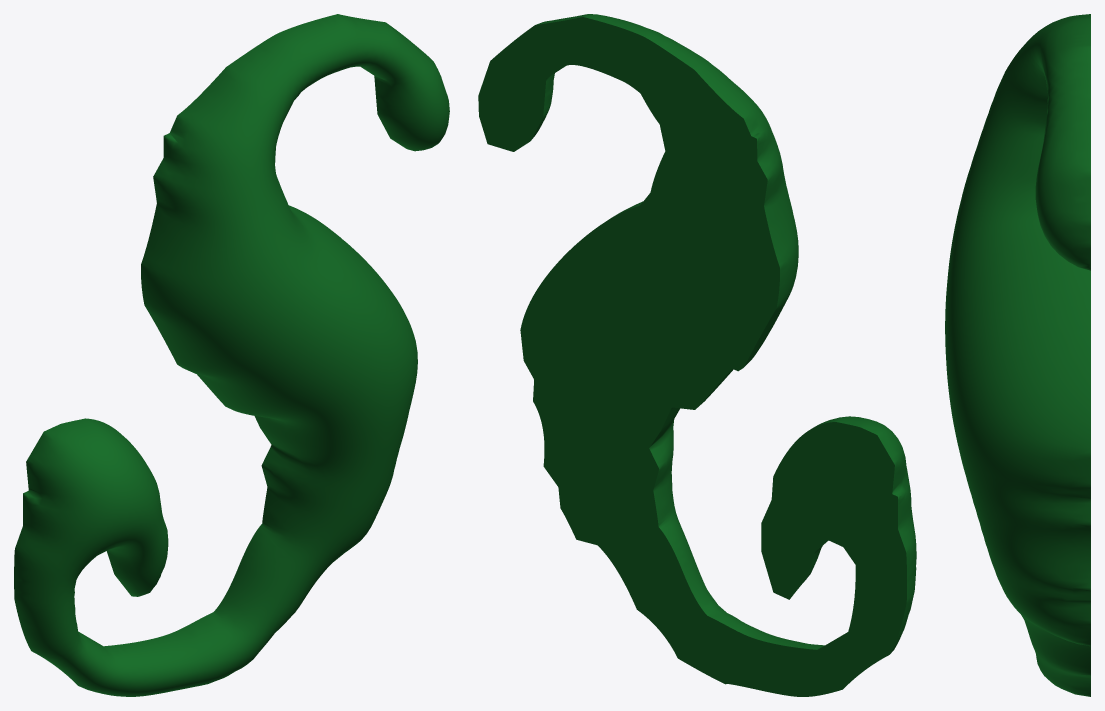
3 views of the same model, side by side, from view 1: azimuth 30°, elevation 25°; view 2: azimuth 150°, elevation 25°; view 3: azimuth 270°, elevation 25° (orthographic). The views are drawn at different scales.
Parts seen in each view (by area): view 1: 자산 12@300; view 2: 자산 12@300; view 3: 자산 12@300.
Part boxes in pixels (x1=…): 자산 12@300: x1=14, y1=14, x2=449, y2=696; 자산 12@300: x1=478, y1=14, x2=916, y2=696; 자산 12@300: x1=945, y1=14, x2=1090, y2=696.
Size of the model in its own units: 66.11 by 93.27 by 17.14.
